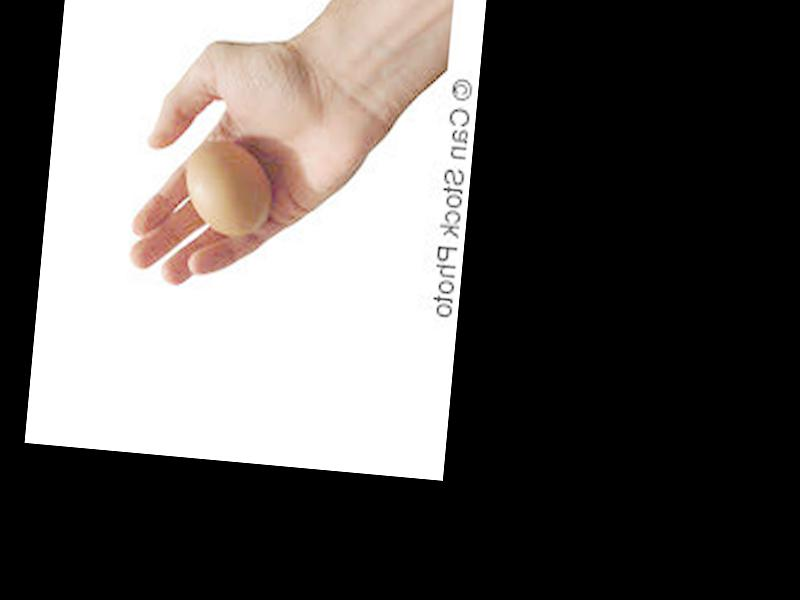Eggs: (184, 142, 274, 240)
